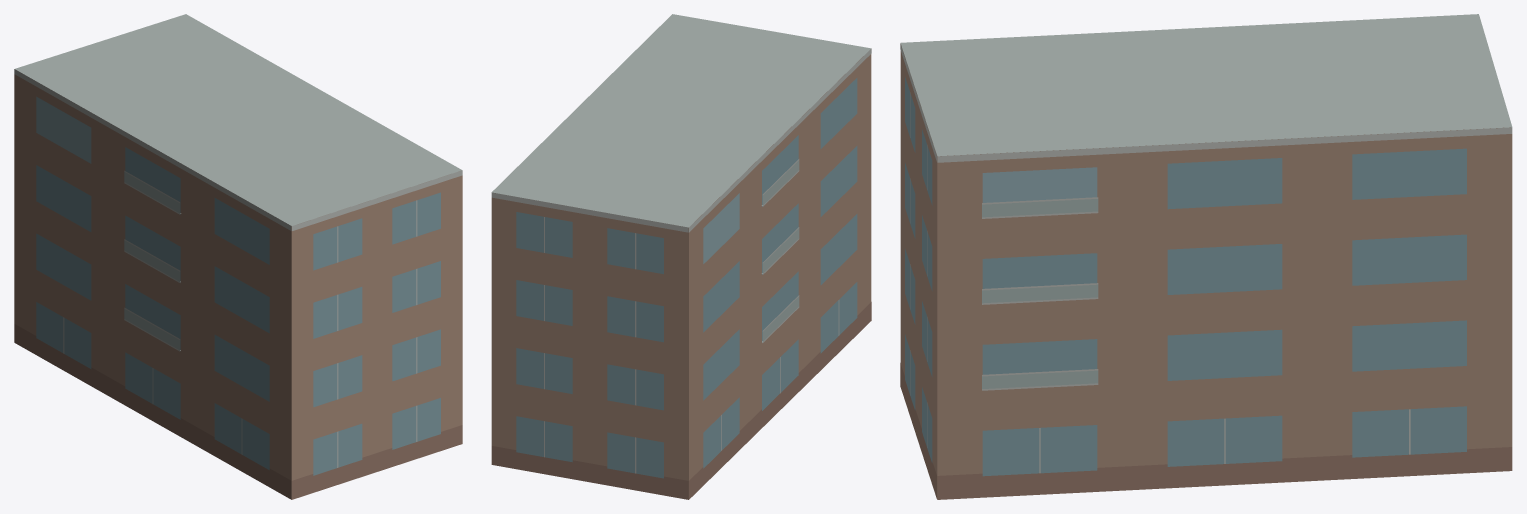
File: survey-upis-32610804.glb
3 views of the same model, side by side, from view 1: azimuth 30°, elevation 25°; view 2: azimuth 150°, elevation 25°; view 3: azimuth 270°, elevation 25° (orthographic). The views are drawn at different scales.
Visible parts, largest first — view 1: survey-upis-32610804.tmp; view 2: survey-upis-32610804.tmp; view 3: survey-upis-32610804.tmp.
Part boxes in pixels (bbox=[...]): survey-upis-32610804.tmp: bbox=[14, 14, 462, 499]; survey-upis-32610804.tmp: bbox=[491, 14, 871, 499]; survey-upis-32610804.tmp: bbox=[900, 14, 1512, 499].
Size of the model in its own units: 11.38 by 12.8 by 20.67.
